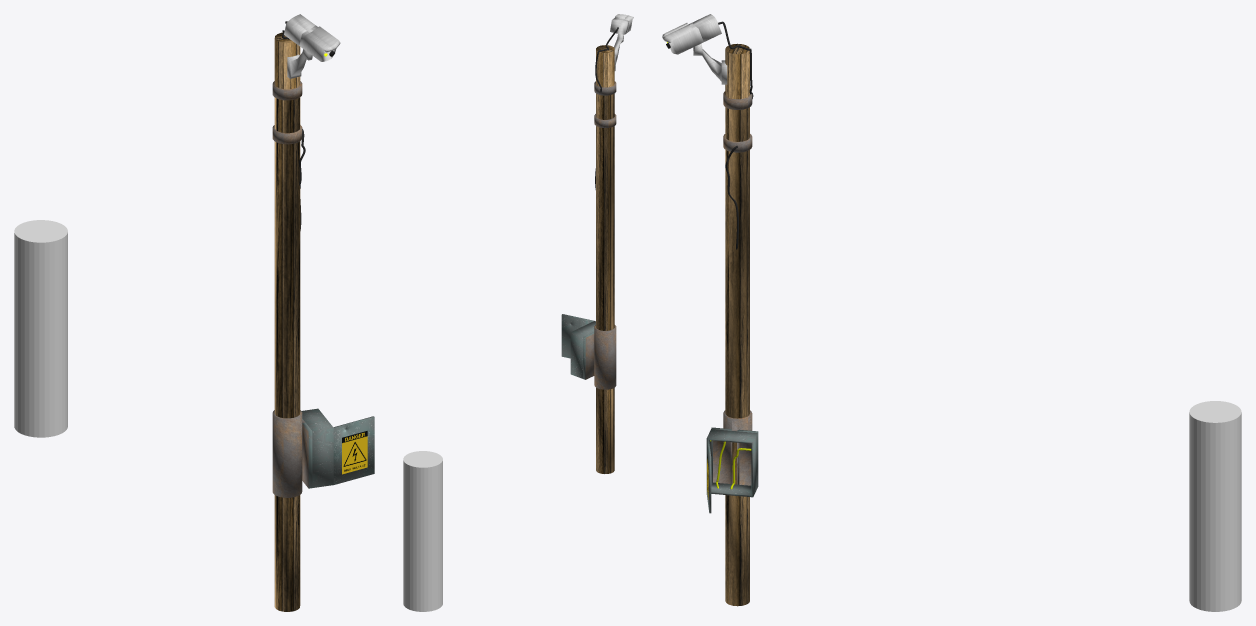
Rendered from cctv_pole.glb.
3 views of the same model, side by side, from view 1: azimuth 30°, elevation 25°; view 2: azimuth 150°, elevation 25°; view 3: azimuth 270°, elevation 25° (orthographic). The views are drawn at different scales.
Parts seen in each view (by area): view 1: CCTV, Ref -noimp, high-voltage; view 2: CCTV, Ref -noimp; view 3: CCTV, Ref -noimp.
Part boxes in pixels (x1,y1,x2,y2): CCTV: (272, 14, 374, 611); Ref -noimp: (14, 220, 67, 437); high-voltage: (342, 431, 367, 474); CCTV: (561, 14, 633, 473); Ref -noimp: (403, 451, 442, 611); CCTV: (662, 14, 758, 606); Ref -noimp: (1189, 401, 1241, 611).
Size of what is drawn, in the model's own units: 1.03 by 6.16 by 5.55.
9 materials, 5 textured.
